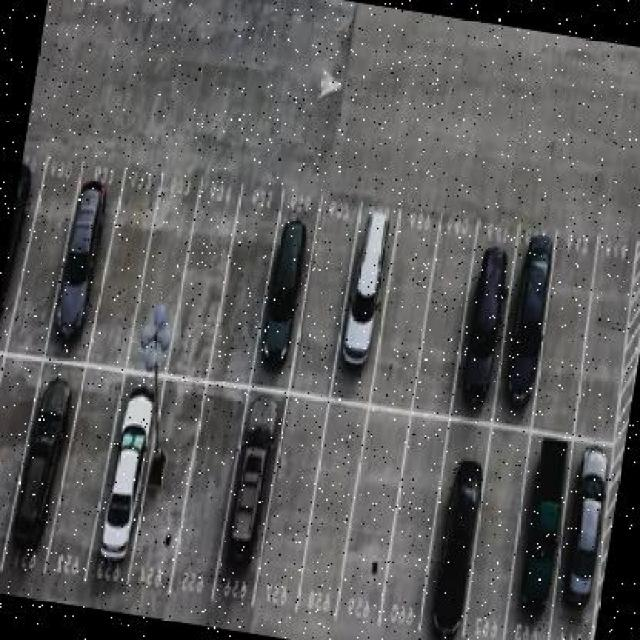Car: (337, 218, 397, 384), (103, 394, 157, 563), (260, 211, 311, 377), (20, 380, 71, 543), (224, 421, 276, 572), (460, 263, 514, 404), (561, 461, 612, 603), (435, 464, 481, 618), (520, 452, 569, 592), (509, 235, 553, 387)
Empty: (583, 259, 637, 421), (61, 176, 116, 335), (383, 235, 437, 378), (389, 464, 438, 620), (269, 441, 318, 589), (306, 455, 355, 599), (350, 452, 398, 598), (70, 391, 124, 520), (223, 216, 270, 355), (543, 270, 590, 409), (471, 472, 517, 612), (147, 215, 192, 353), (24, 190, 70, 321), (147, 420, 192, 549), (186, 421, 229, 553), (103, 201, 141, 339), (430, 244, 472, 367), (309, 244, 352, 361), (1, 395, 27, 544), (193, 221, 229, 326)
